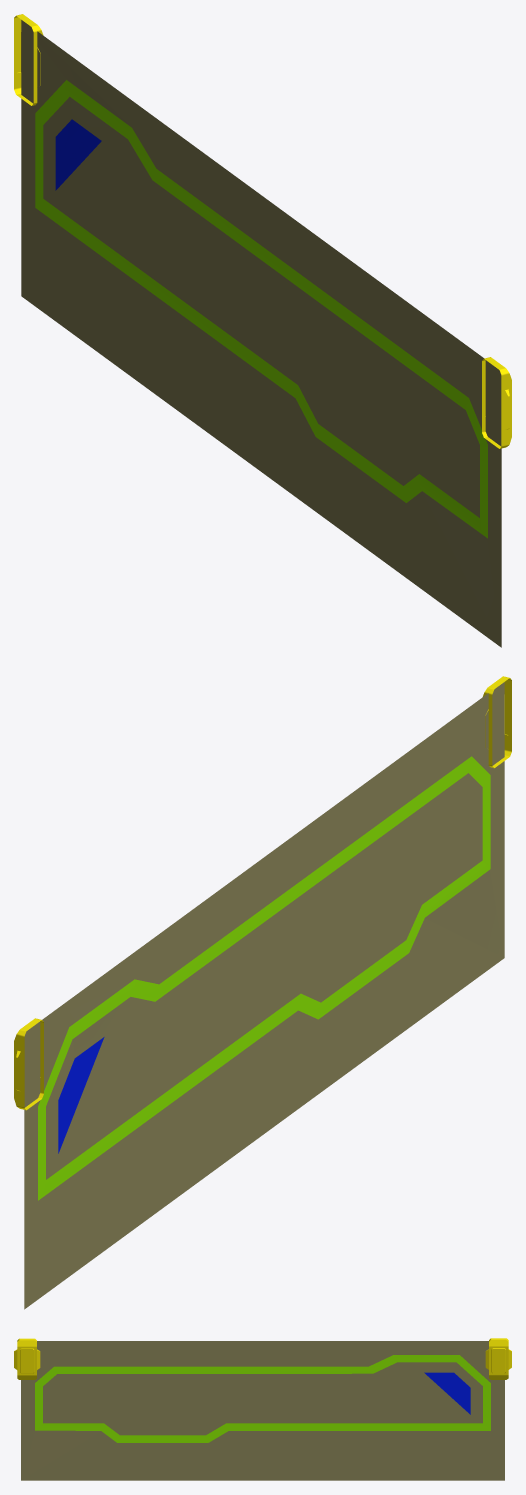
File: Building_Wall_02j_Cut_Out_snaps016.FBX
3 views of the same model, one above another, from view 1: azimuth 30°, elevation 25°; view 2: azimuth 150°, elevation 25°; view 3: azimuth 270°, elevation 25° (orthographic). The views are drawn at different scales.
Parts seen in each view (by area): view 1: Building_Wall_02j_Cut_Out_snaps016_LOD0; view 2: Building_Wall_02j_Cut_Out_snaps016_LOD0; view 3: Building_Wall_02j_Cut_Out_snaps016_LOD0.
Part boxes in pixels (box(x1,y1,x2,y2)): Building_Wall_02j_Cut_Out_snaps016_LOD0: box(14, 14, 511, 647); Building_Wall_02j_Cut_Out_snaps016_LOD0: box(14, 676, 511, 1309); Building_Wall_02j_Cut_Out_snaps016_LOD0: box(14, 1338, 511, 1480).
Size of what is drawn, in the model's own units: 0.0819 by 1.93 by 6.17.
